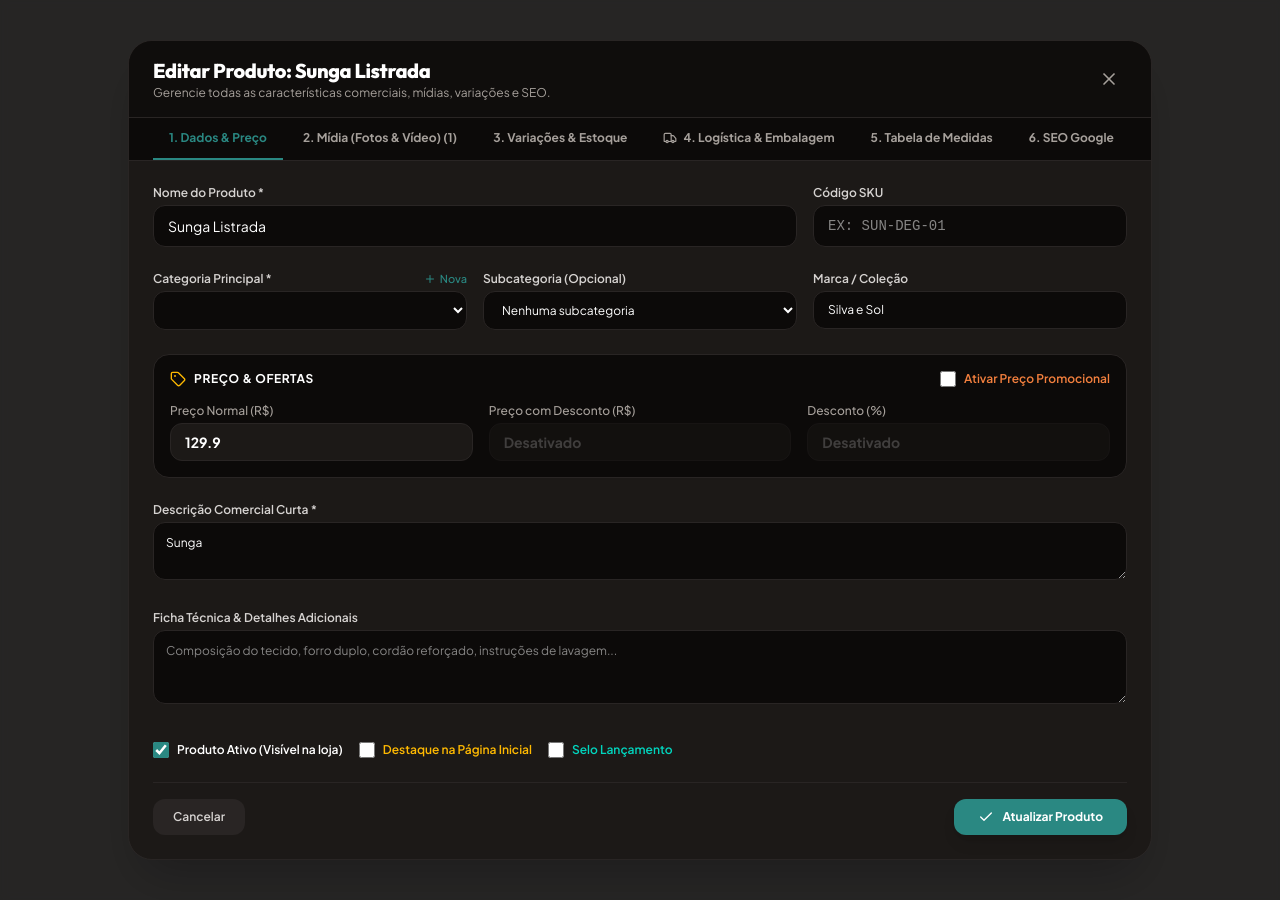
AdminProductModal - desconto em % › mudar o preço normal recalcula o promocional mantendo o %
Click the checkbox labelled "Ativar Preço Promocional".
click(948, 379)  # box [940, 371, 956, 387]
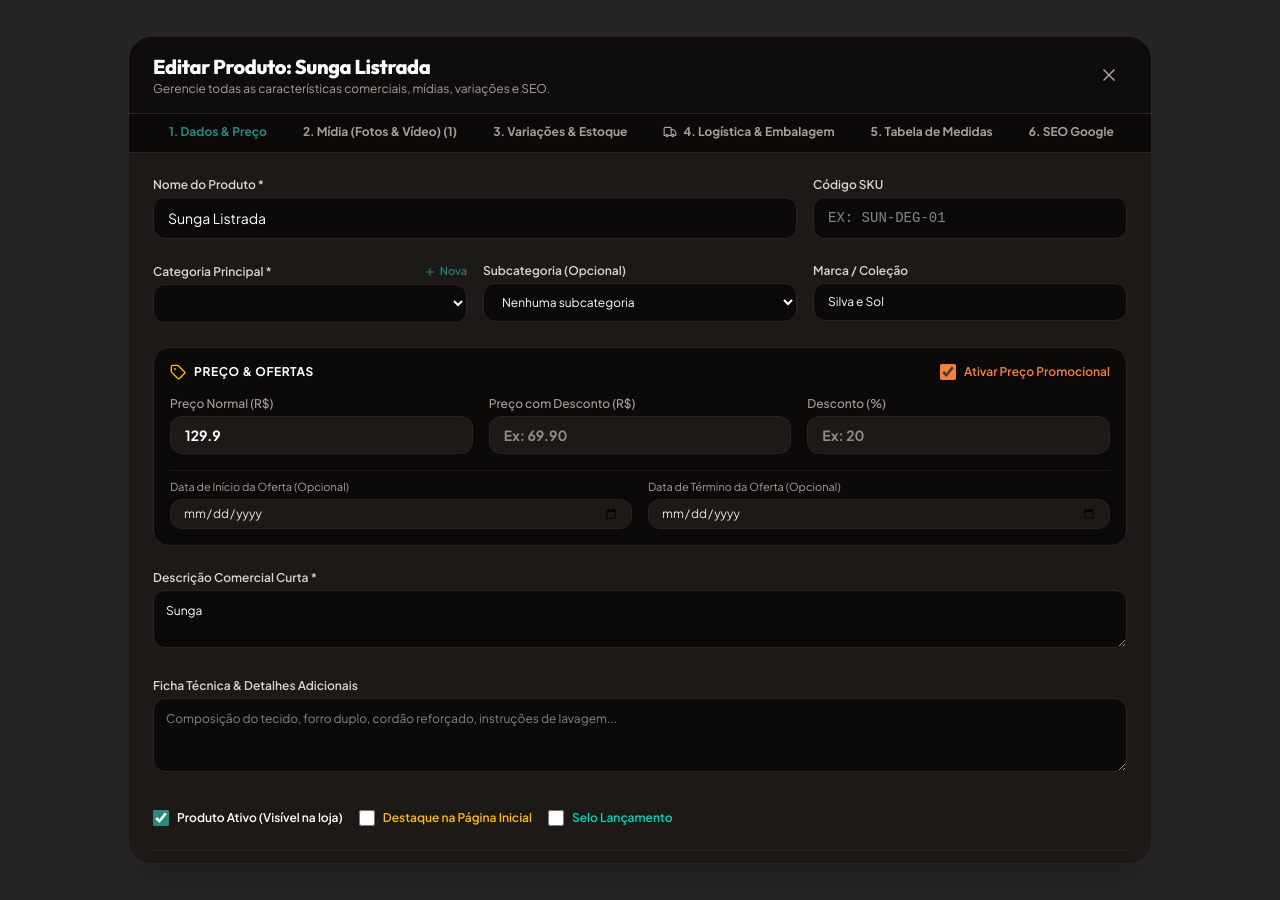
Type "20" into the field labelled "Desconto (%)".
click(959, 435); type("20")  # box [807, 416, 1110, 454]
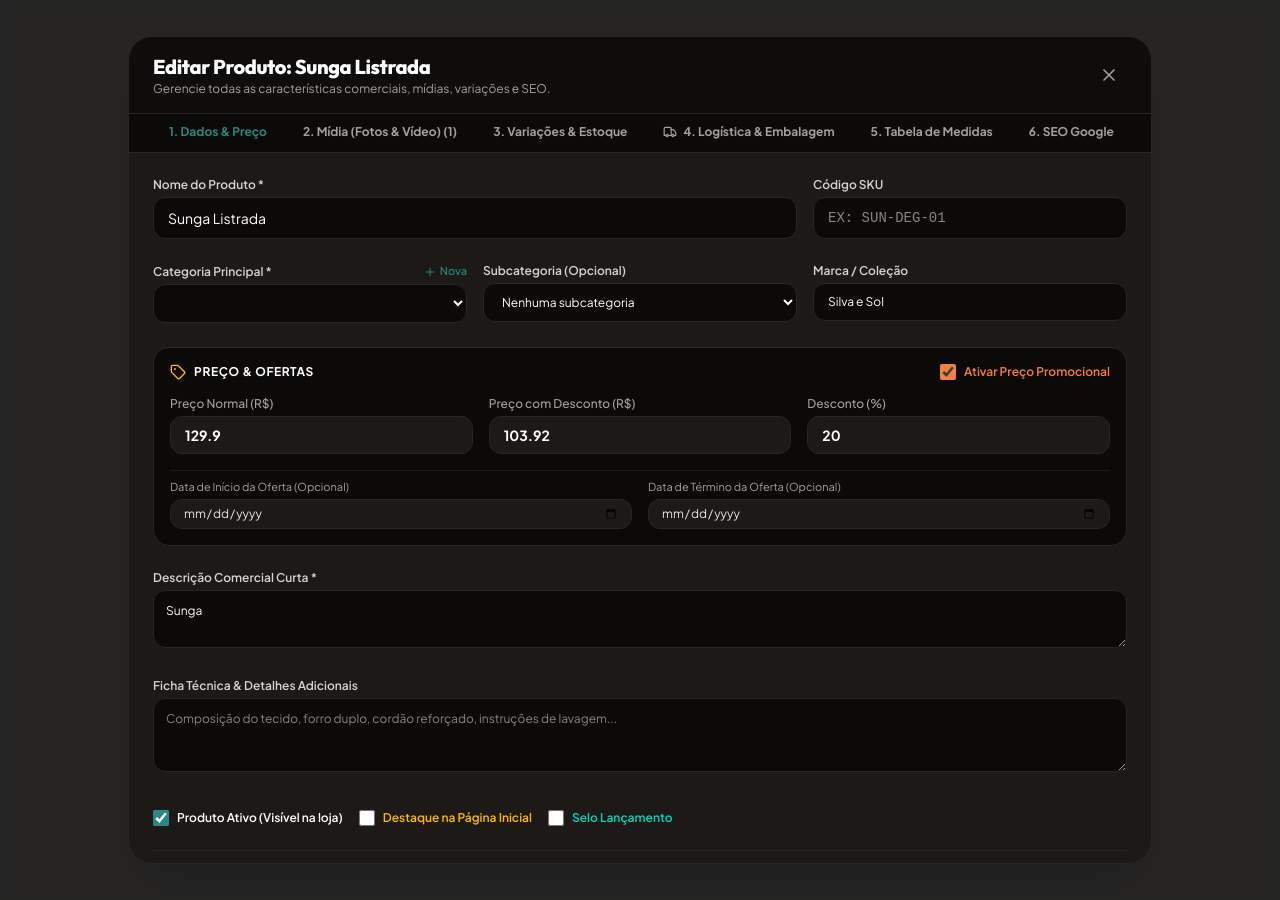
Replace the text in the number field labelled "Preço Normal (R$)" with "100" at (321, 435), box [170, 416, 473, 454]
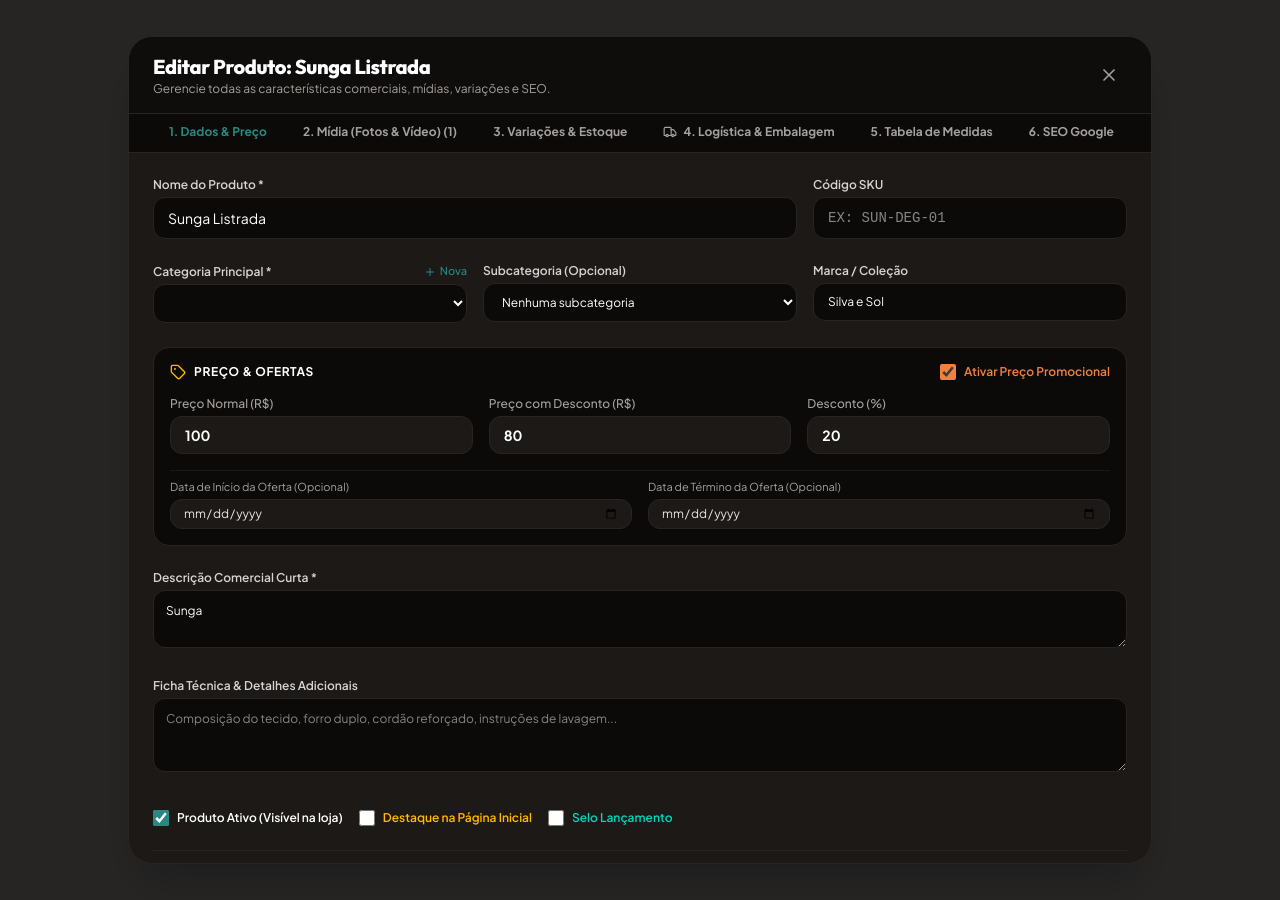
Now the number field labelled "Preço com Desconto (R$)" holds "80", box [489, 416, 791, 454]
